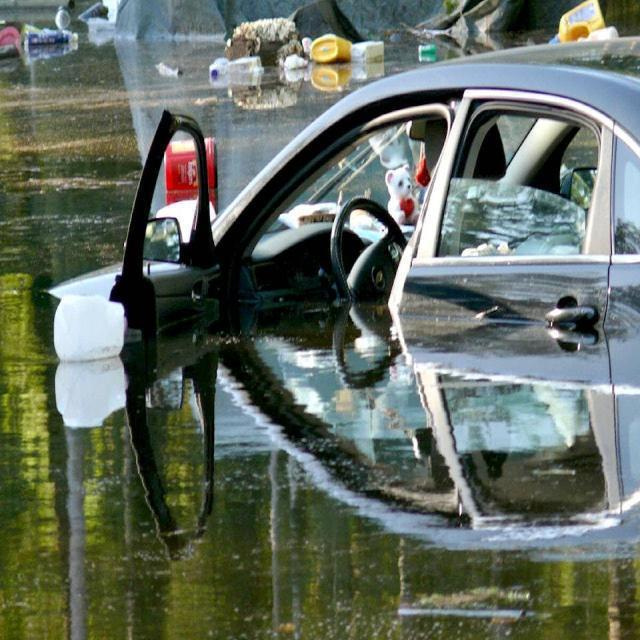water: (1, 32, 639, 639)
